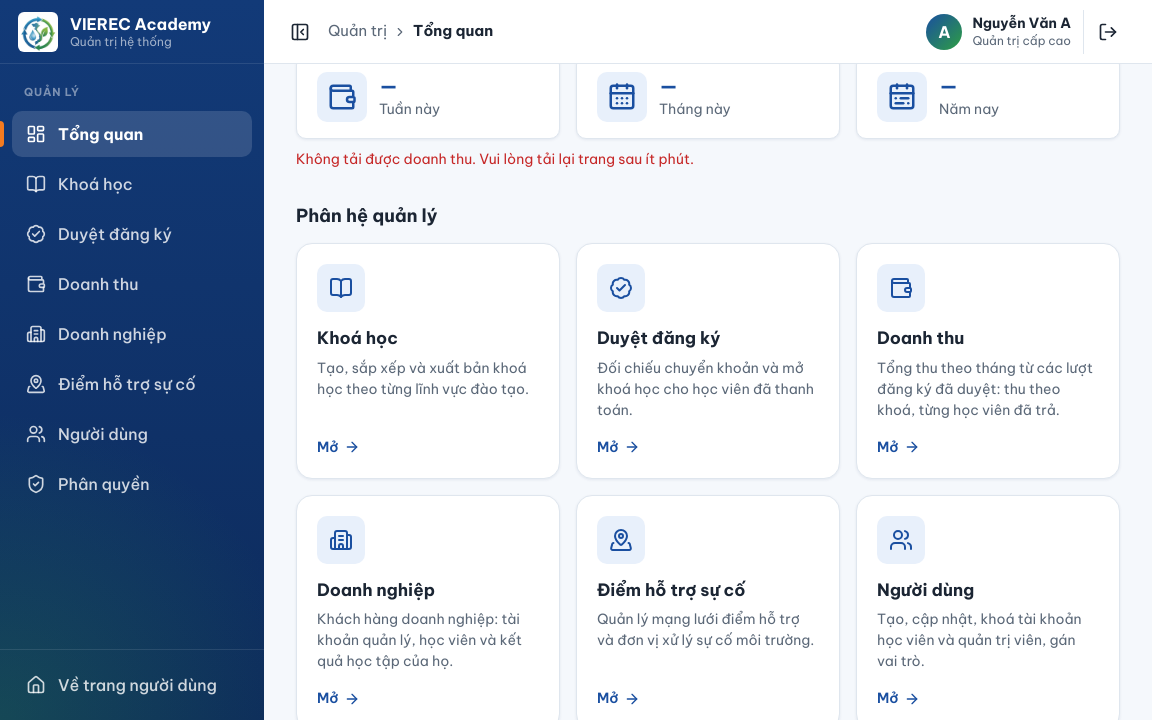
Test: AdminLayout › navigates from a module card and updates the breadcrumb
This screenshot has width=1152, height=720.
(page scrolled)
Click the link "Khoá học": (428,361) [296, 243, 560, 478]
(page scrolled)
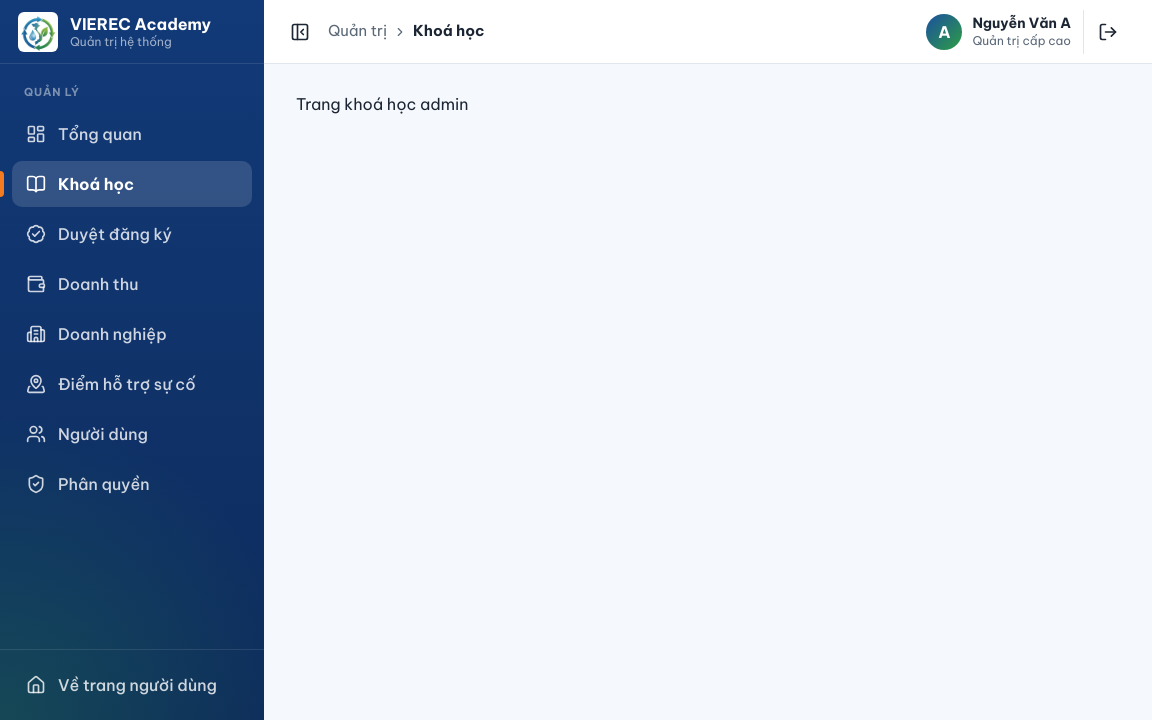
Expected: the text "Trang khoá học admin" is shown, [296, 94, 468, 114]
Expected: the text "Khoá học" in the row of "Nguyễn Văn A" is shown, [413, 21, 484, 40]
